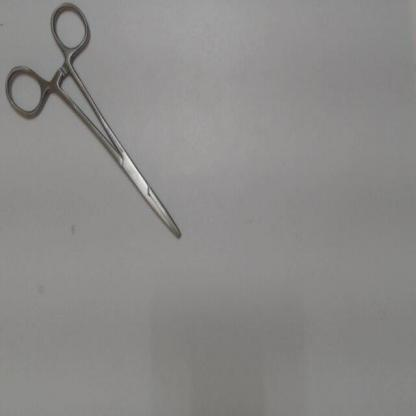Mayo Needle Holder: (3, 0, 197, 253)
